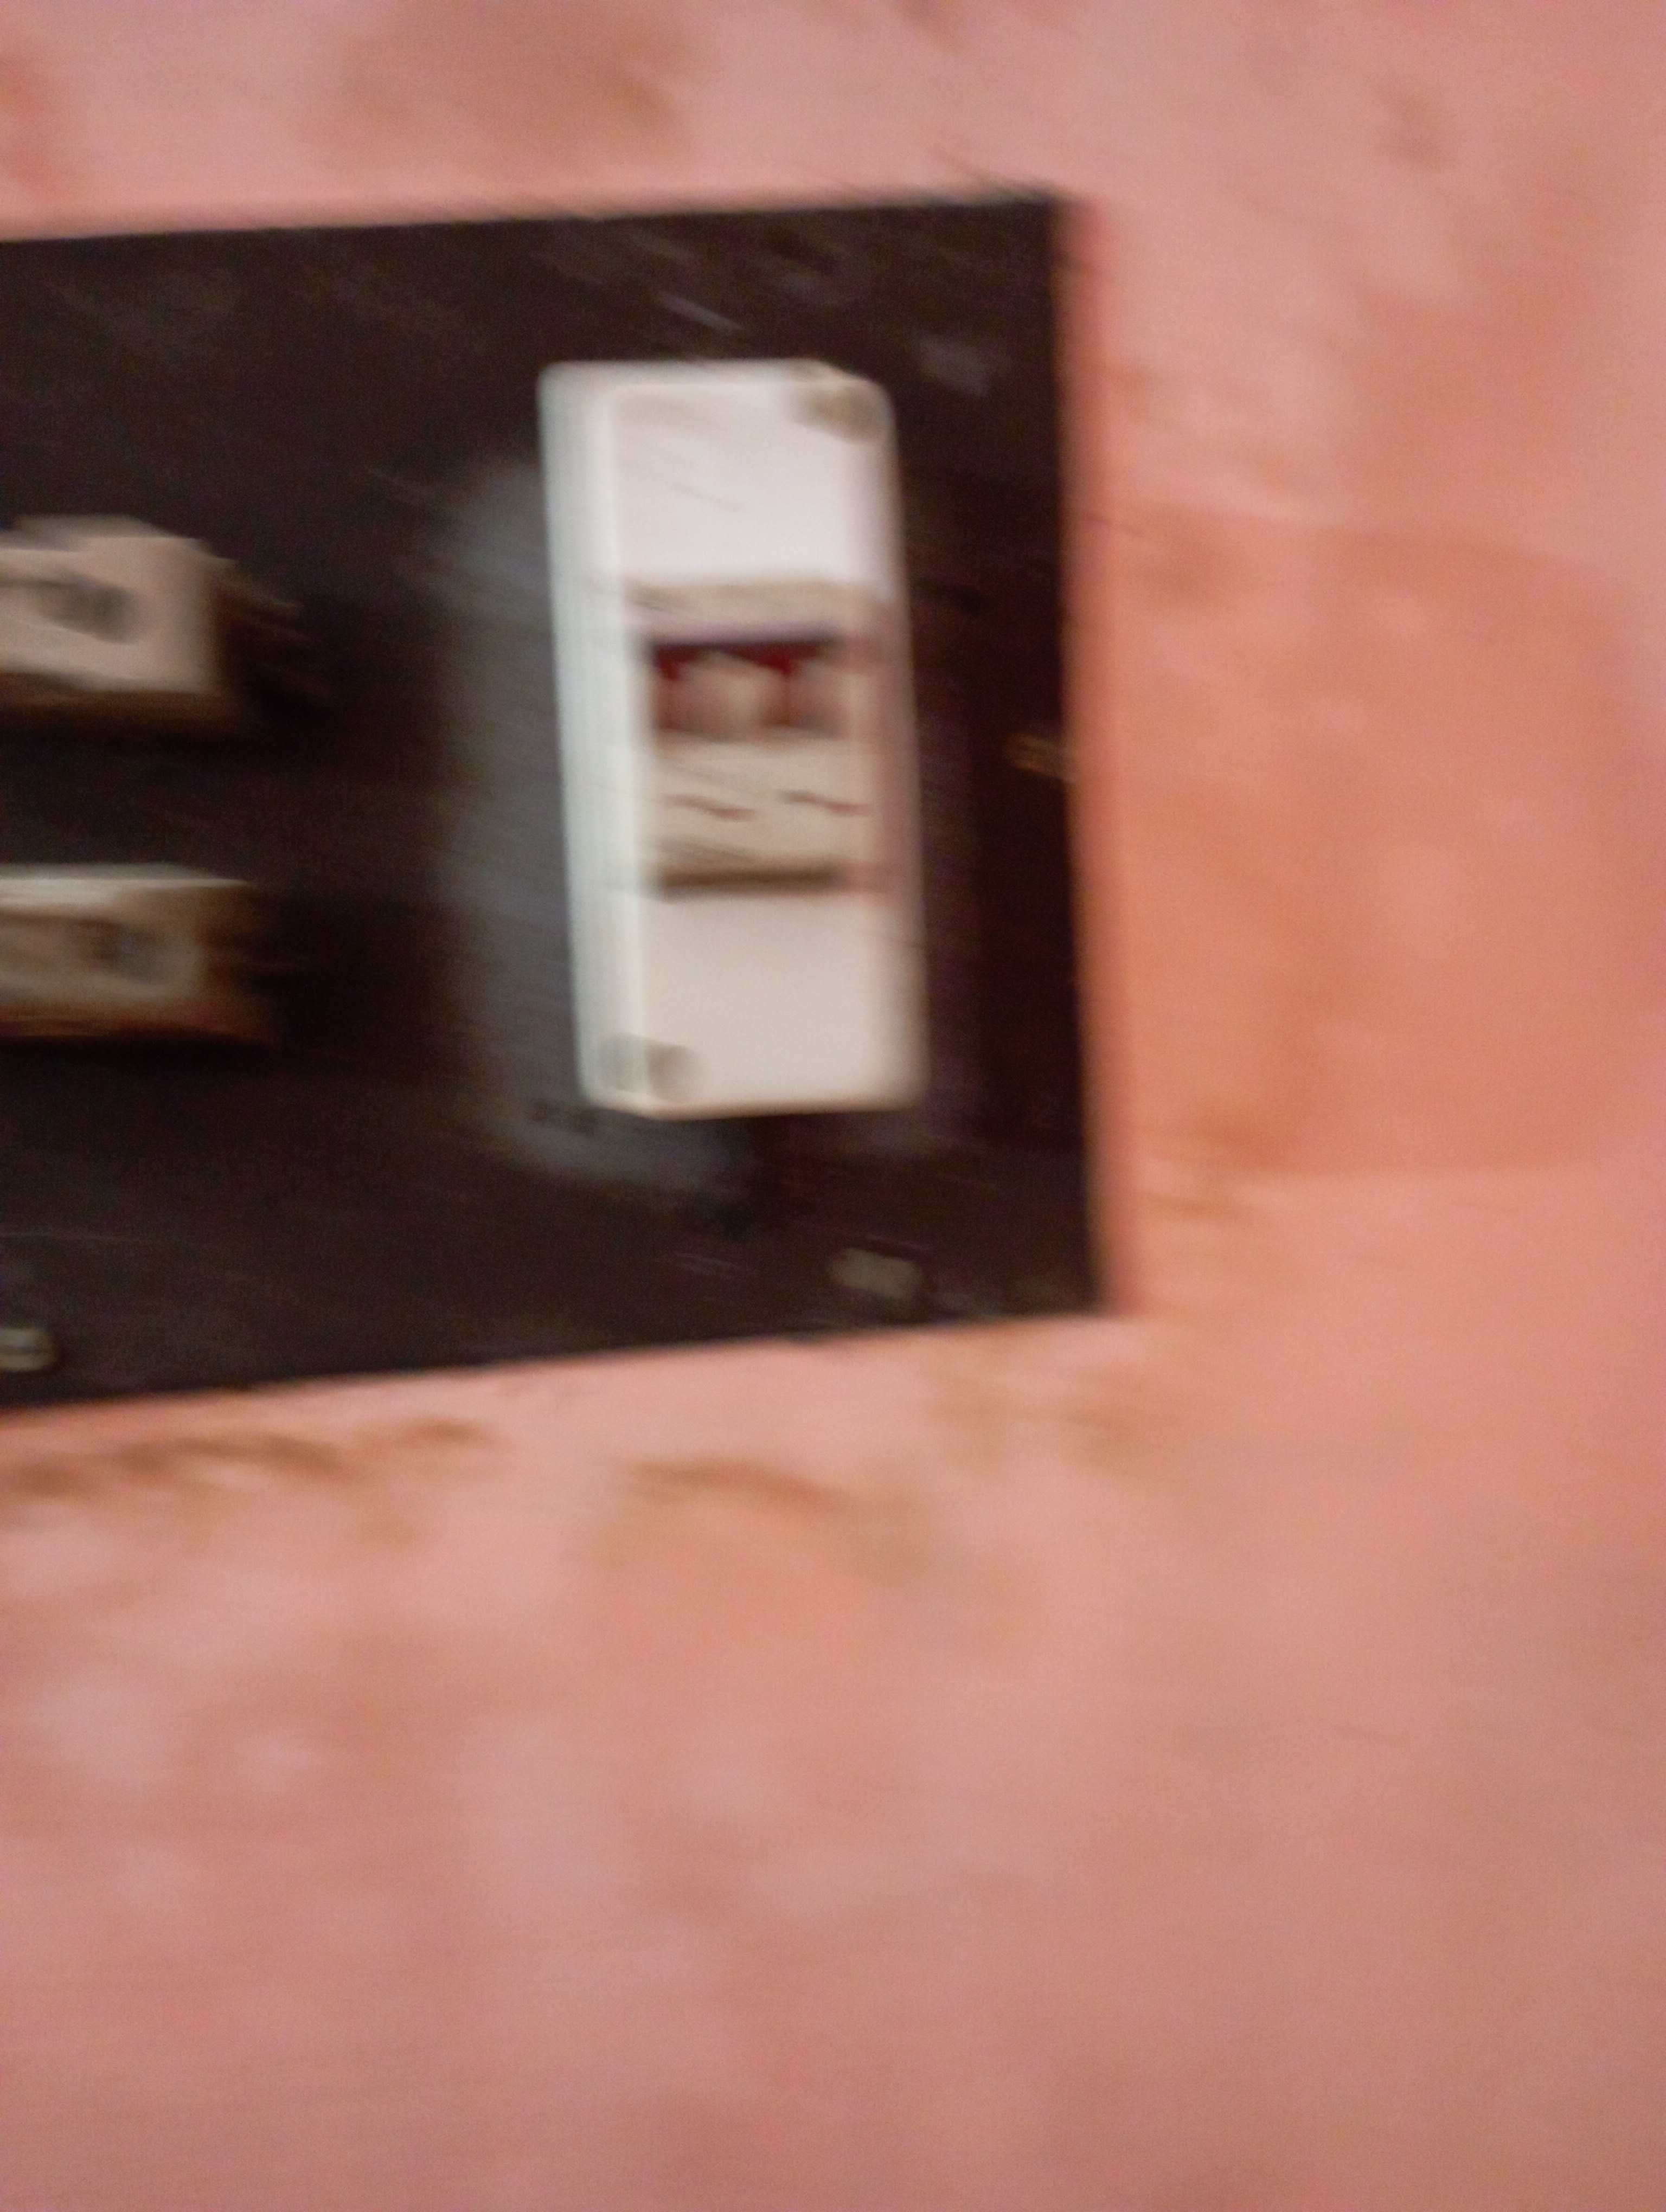ciruit_breaker: (511, 371, 970, 1098)
fuse: (0, 846, 336, 1061), (0, 528, 282, 740)
